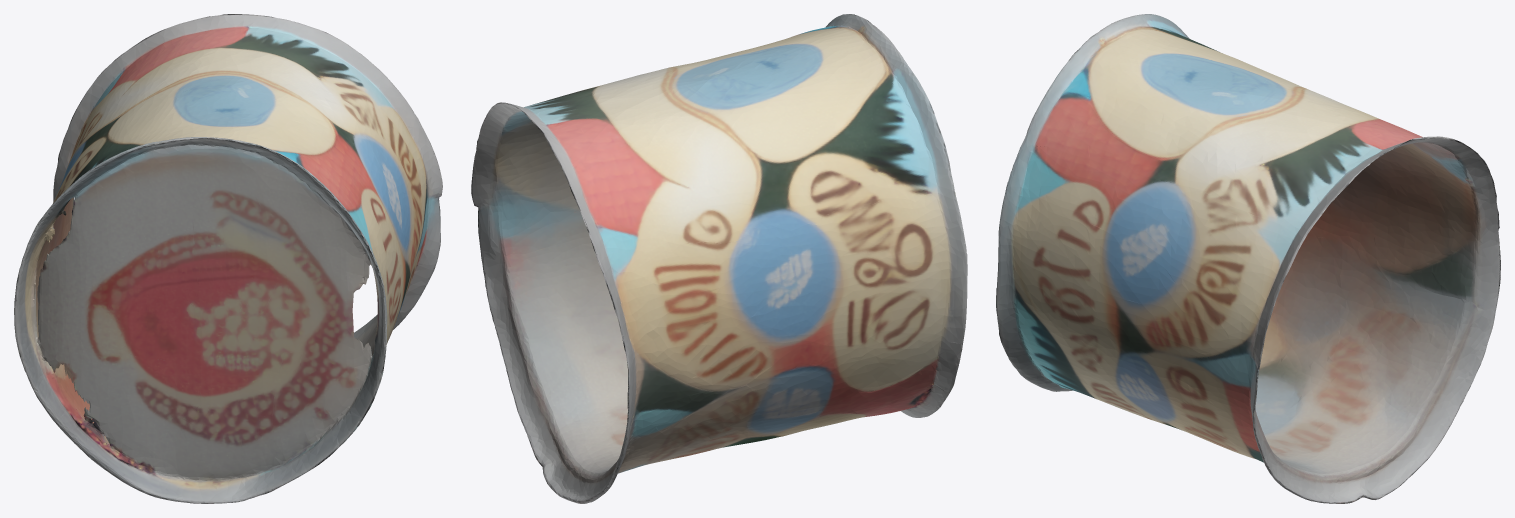
3 views of the same model, side by side, from view 1: azimuth 30°, elevation 25°; view 2: azimuth 150°, elevation 25°; view 3: azimuth 270°, elevation 25° (orthographic). The views are drawn at different scales.
Visible parts, largest first — view 1: world; view 2: world; view 3: world.
Boxes of the visible parts, box(x1,y1,x2,y2) form: world: box(14, 14, 442, 503); world: box(471, 14, 967, 503); world: box(996, 14, 1500, 503).
Size of the model in its own units: 0.8856 by 0.7168 by 0.8532.
Materials: 1 (1 with a texture image).
